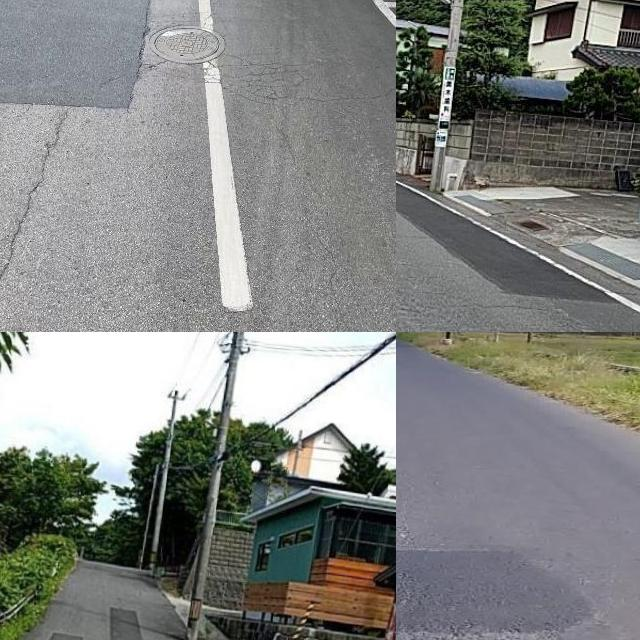Memanjang: (0, 105, 81, 306)
Sambungan: (396, 182, 613, 301), (396, 552, 594, 640), (0, 0, 152, 110), (108, 606, 145, 640), (40, 632, 82, 640)
